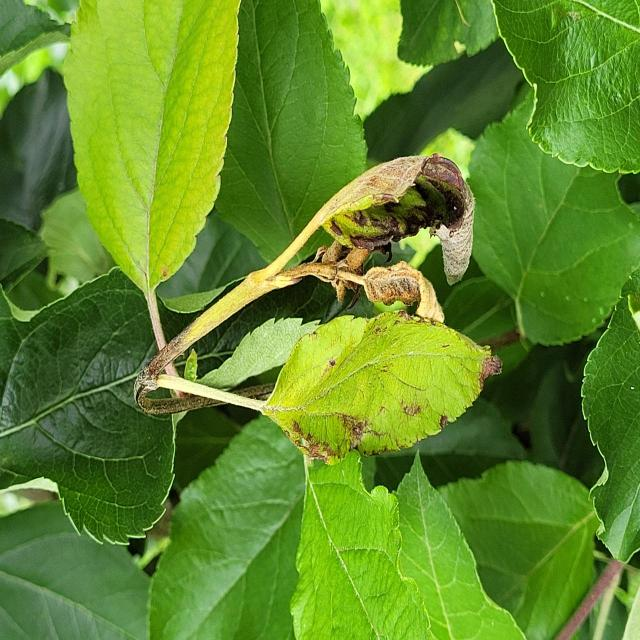-FireBlight-: (139, 154, 493, 466)
